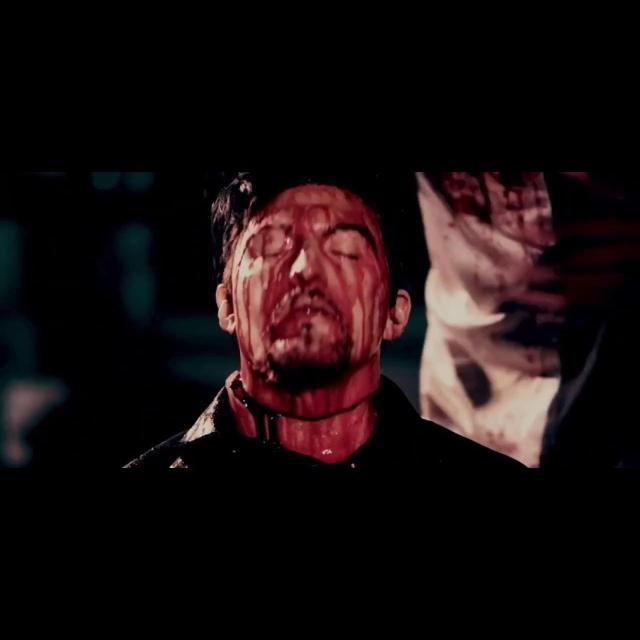blood: (180, 185, 406, 463), (436, 172, 570, 313), (474, 430, 520, 460)
